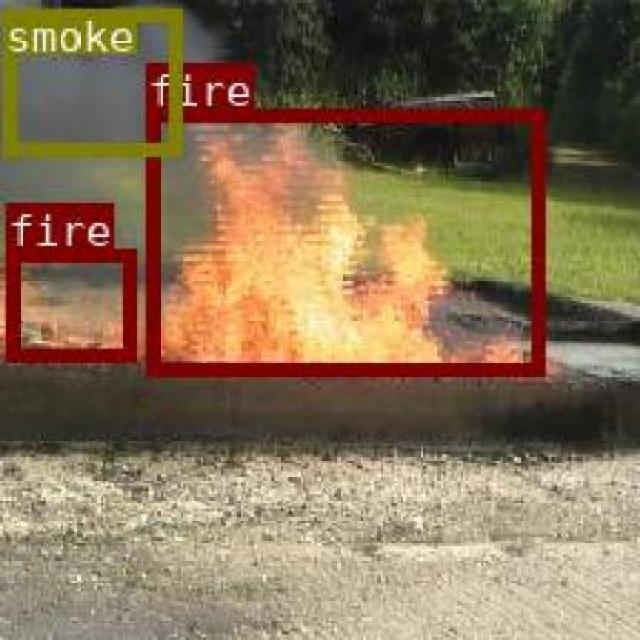Fire: (143, 108, 542, 374), (3, 248, 132, 360)
Smoke: (1, 8, 180, 154)
